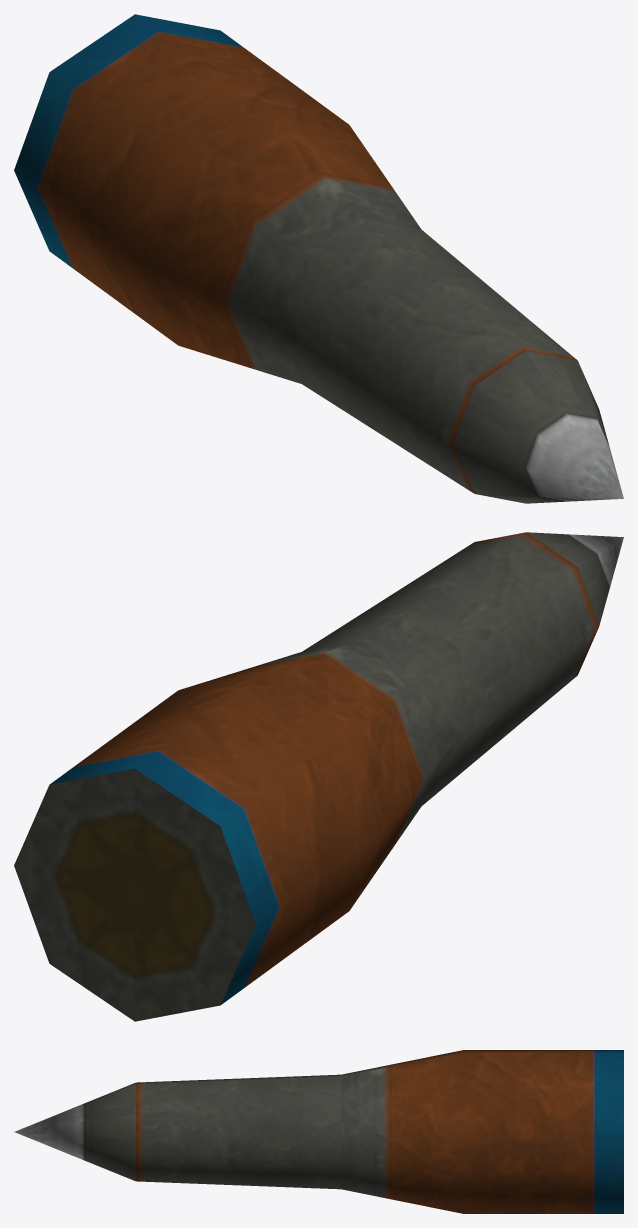
File: iostba00.FBX
The picture shows the model from 3 angles, top to bottom: view 1: azimuth 30°, elevation 25°; view 2: azimuth 150°, elevation 25°; view 3: azimuth 270°, elevation 25°; orthographic projection. The views are drawn at different scales.
Visible parts, largest first — view 1: iostba00; view 2: iostba00; view 3: iostba00.
Part boxes in pixels (x1=…): iostba00: x1=14, y1=14, x2=623, y2=503; iostba00: x1=14, y1=532, x2=623, y2=1021; iostba00: x1=14, y1=1050, x2=623, y2=1213.
Bounding box in the file's own units: 0.26 × 0.26 × 0.91.
